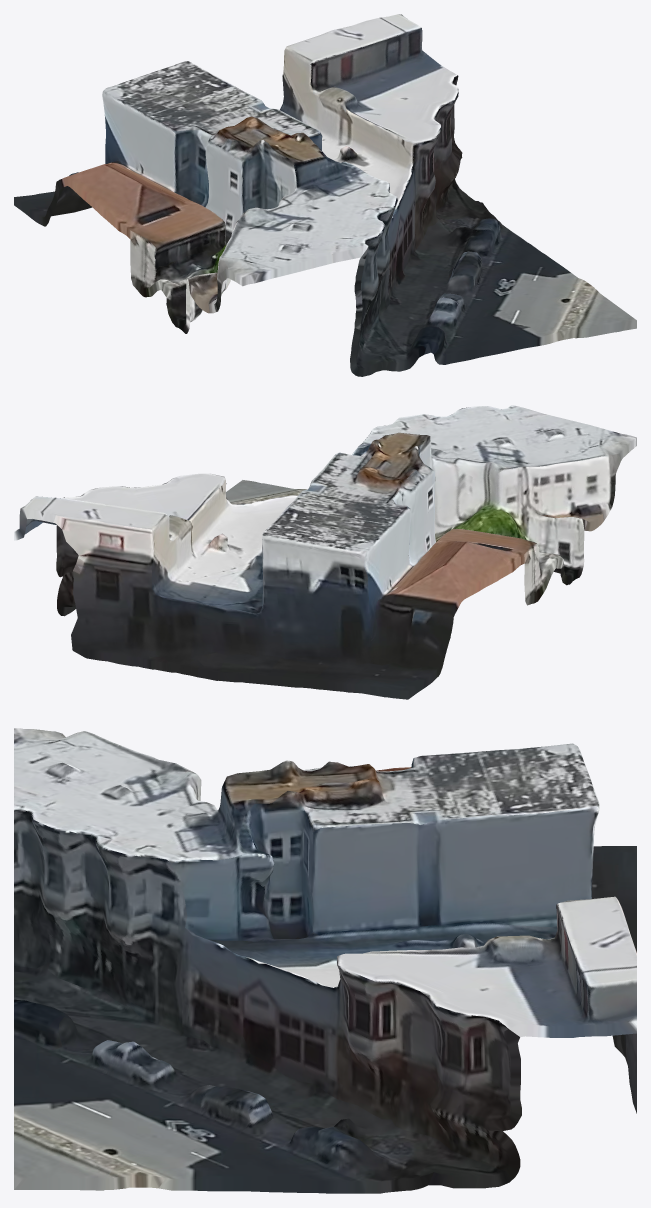
The model's file is z20-167736-405198-h0-yup-uvflip-v3-world.glb.
3 views of the same model, one above another, from view 1: azimuth 30°, elevation 25°; view 2: azimuth 150°, elevation 25°; view 3: azimuth 270°, elevation 25° (orthographic). The views are drawn at different scales.
Size of the model in its own units: 30.16 by 13.52 by 30.32.
Materials: 1 (1 with a texture image).
